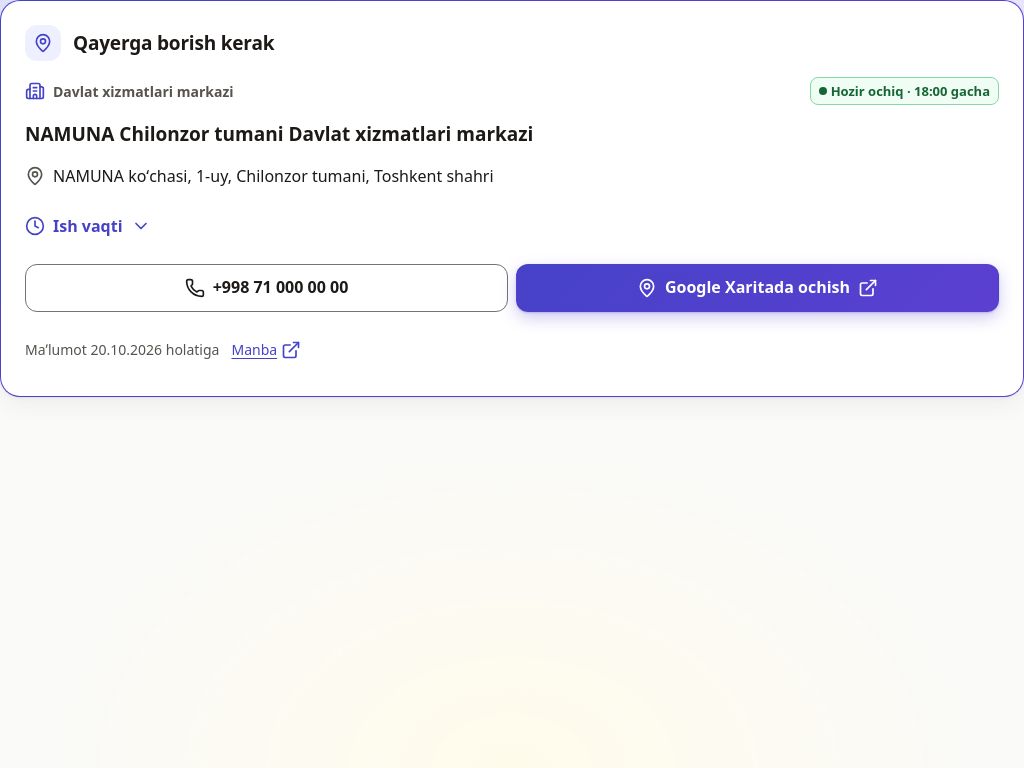
Test: OfficeCard › shows the district office: badge, address, hours table, phone and map
Expected: the heading "Qayerga borish kerak" is shown, [25,25,274,61]
Expected: the text "Hozir ochiq · 18:00 gacha" is shown, [810,77,999,105]
Click the heading "Ish vaqti": (88, 226) [25,215,151,237]
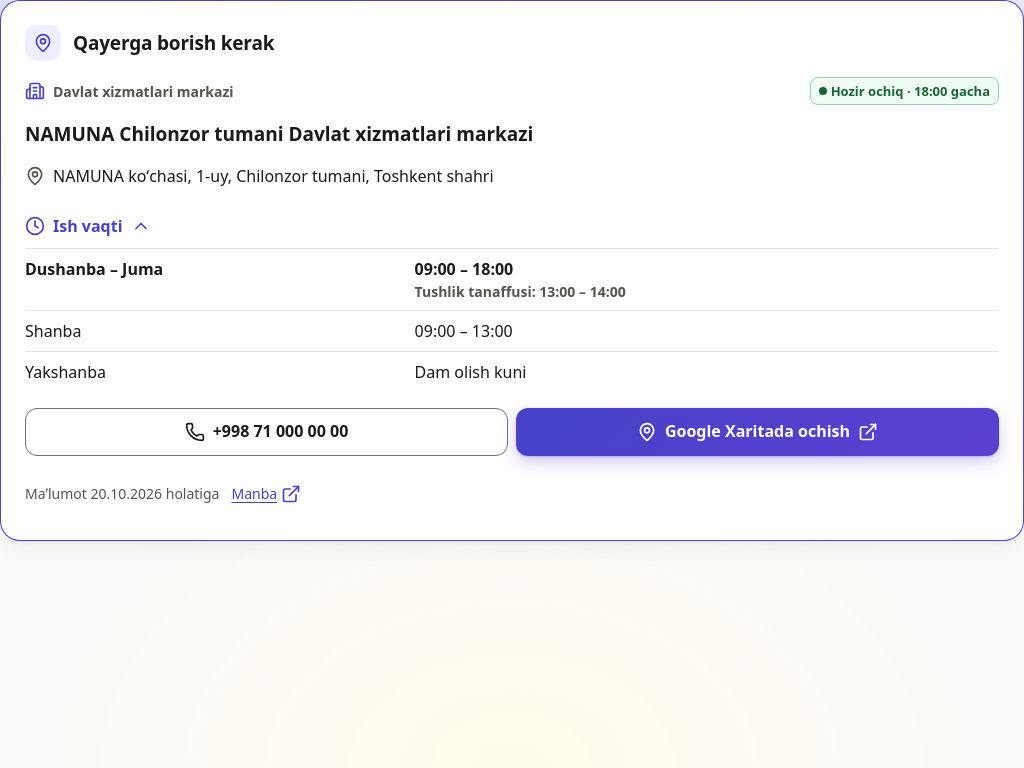
Expected: the text "Maʼlumot 20.10.2026 holatiga" is shown, [25,484,220,504]
Result: the text "Tushlik tanaffusi: 13:00 – 14:00" is shown at [415,282,626,301]
Result: the row "Yakshanba Dam olish kuni" is shown at [25,351,999,392]
